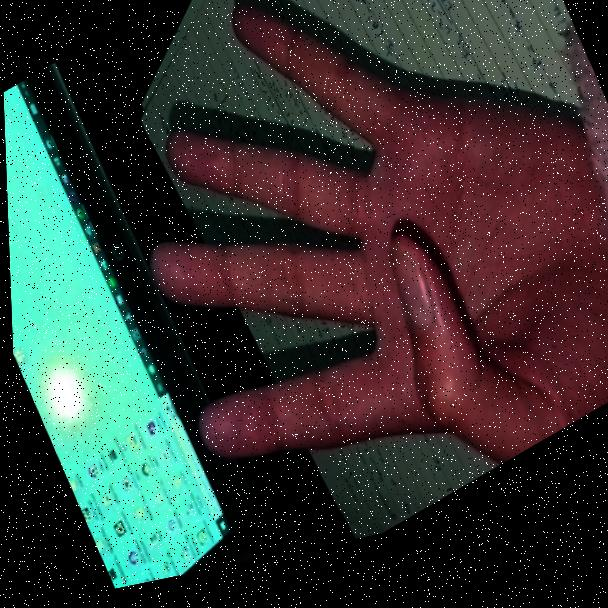four: (33, 0, 608, 603)
